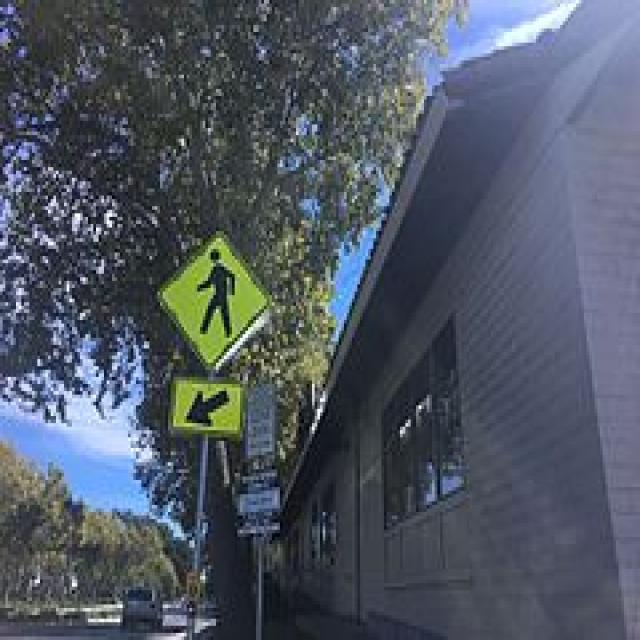Pedestrian crosswalk: (152, 228, 280, 373)
